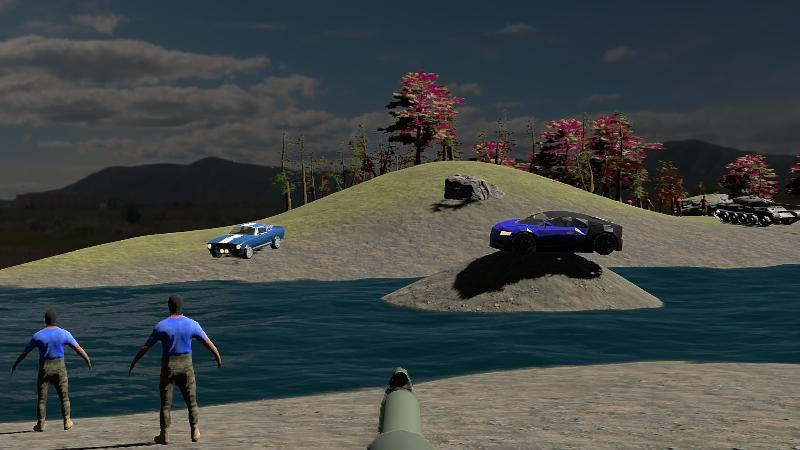Human: (129, 293, 221, 445), (11, 308, 90, 433)
Tank: (709, 195, 799, 228)
car: (488, 210, 624, 257), (207, 221, 285, 259)
